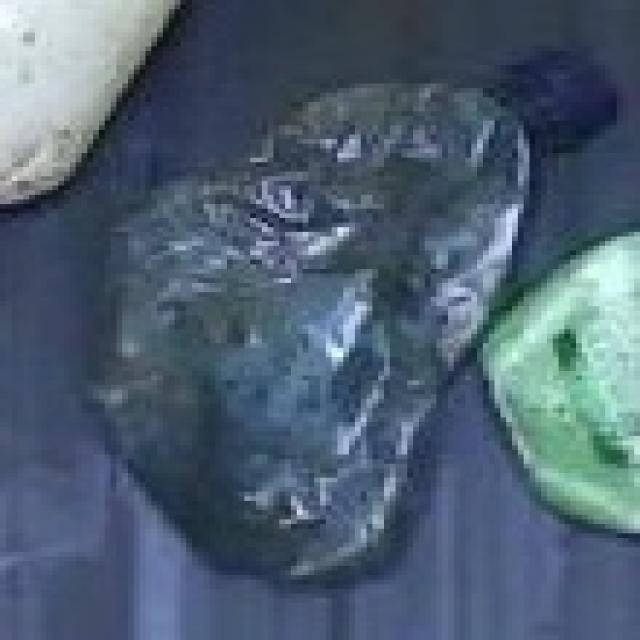plasticbottle: (64, 21, 608, 589)
